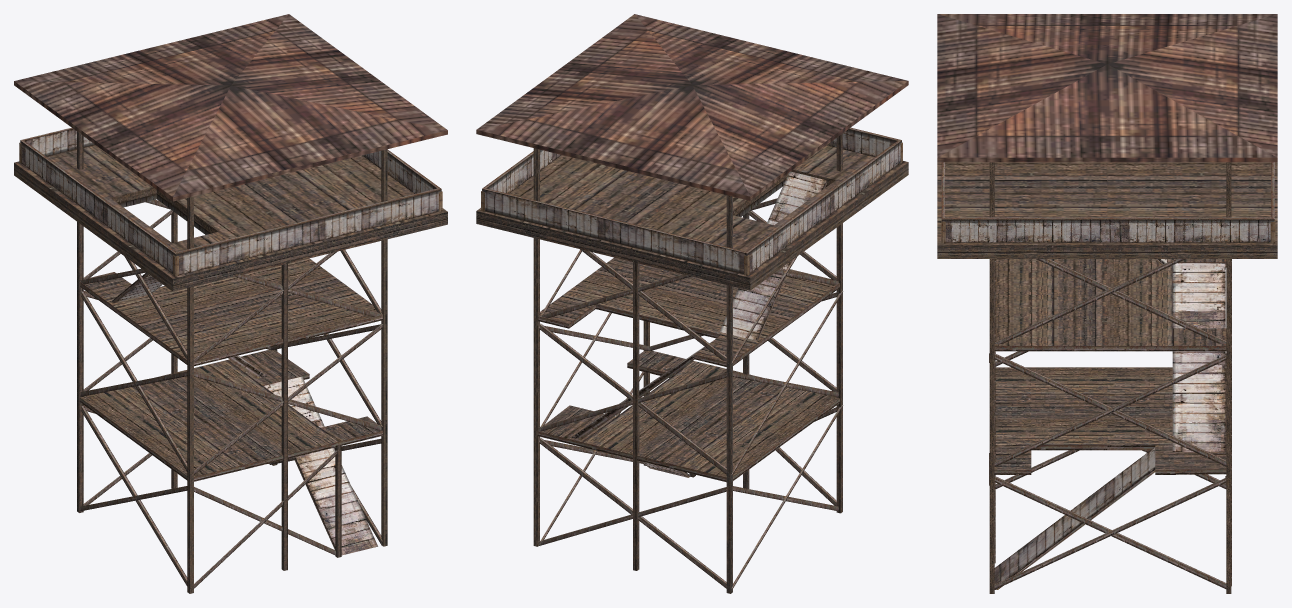
The model's file is wgrdtwr1.glb.
3 renders of one model, left to right at view 1: azimuth 30°, elevation 25°; view 2: azimuth 150°, elevation 25°; view 3: azimuth 270°, elevation 25°, orthographic. The views are drawn at different scales.
Visible parts, largest first — view 1: _wgrdtwr1; view 2: _wgrdtwr1; view 3: _wgrdtwr1.
Part boxes in pixels (x1,y1,x2,y2): _wgrdtwr1: (14,14,447,593); _wgrdtwr1: (476,14,908,593); _wgrdtwr1: (937,14,1277,593).
Bounding box in the file's own units: 8.39 × 12.97 × 8.39.
1 material, 1 textured.
